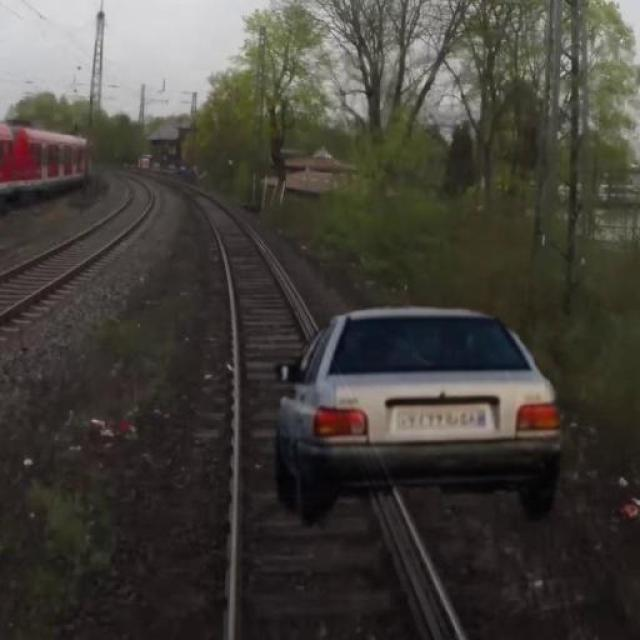vehicle: (262, 292, 576, 524)
